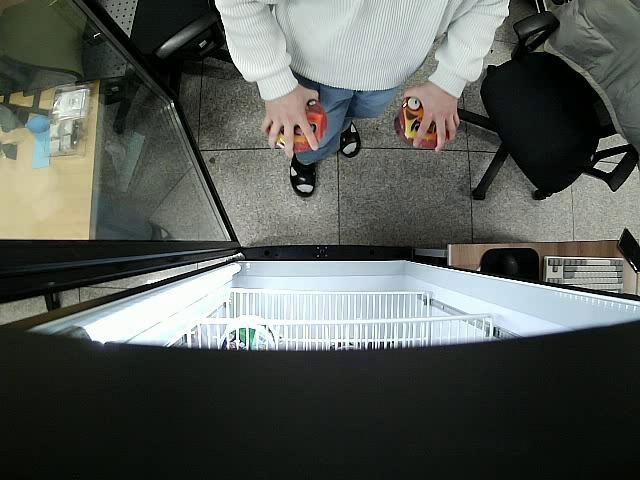05_nuguri_L: (268, 102, 326, 152), (394, 99, 448, 150)
